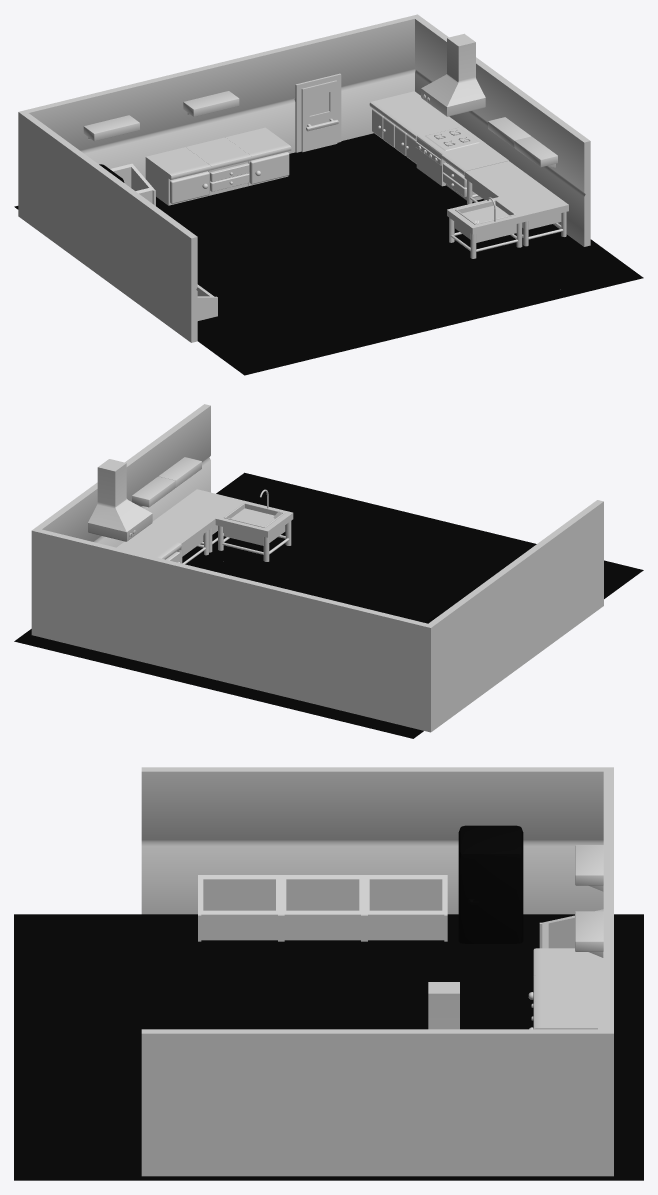
Rendered from Cocina Montada.fbx.
3 views of the same model, one above another, from view 1: azimuth 30°, elevation 25°; view 2: azimuth 150°, elevation 25°; view 3: azimuth 270°, elevation 25° (orthographic). The views are drawn at different scales.
Visible parts, largest first — view 1: Pared3 (×2), Pared006, Pared2, Pared005, Pared4, Pared009, Pared, Pared008, Puerta001, CAmpana001, Grifo.002, Marmol_CentroCajon005 (+15 smaller); view 2: Pared3 (×2), Pared, Pared2, Pared005, Pared006, Pared4, Pared009, CAmpana001, Grifo.002, Pared011, Mesa001, Mesa002 (+4 smaller); view 3: Pared008, Pared009, Pared011, Pared006, Pared005, Pared4, Nevera, Cajon002, Cajon003, Cajon004, Pared3 (×2), Marmol_CentroCajon007 (+102 smaller).
Part boxes in pixels (left/top/right/bottom): Pared3 (×2): left=218, top=14, right=420, bottom=153; Pared006: left=133, top=195, right=197, bottom=342; Pared2: left=118, top=63, right=221, bottom=178; Pared005: left=76, top=152, right=139, bottom=300; Pared4: left=19, top=111, right=82, bottom=258; Pared009: left=526, top=99, right=590, bottom=246; Pared: left=18, top=87, right=121, bottom=218; Pared008: left=469, top=57, right=532, bottom=173; Puerta001: left=294, top=73, right=341, bottom=152; CAmpana001: left=421, top=33, right=485, bottom=116; Grifo.002: left=447, top=197, right=524, bottom=258; Marmol_CentroCajon005: left=145, top=147, right=211, bottom=205; Pared3 (×2): left=31, top=528, right=234, bottom=683; Pared: left=331, top=601, right=434, bottom=731; Pared2: left=231, top=576, right=334, bottom=707; Pared005: left=482, top=542, right=546, bottom=689; Pared006: left=540, top=500, right=603, bottom=647; Pared4: left=424, top=584, right=488, bottom=732; Pared009: left=147, top=404, right=210, bottom=520; CAmpana001: left=88, top=459, right=152, bottom=541; Grifo.002: left=215, top=489, right=293, bottom=561; Pared011: left=31, top=488, right=95, bottom=635; Mesa001: left=139, top=511, right=211, bottom=564; Mesa002: left=167, top=489, right=240, bottom=552; Pared008: left=299, top=1029, right=456, bottom=1176; Pared009: left=141, top=1029, right=298, bottom=1176; Pared011: left=456, top=1029, right=613, bottom=1176; Pared006: left=141, top=767, right=298, bottom=914; Pared005: left=299, top=767, right=456, bottom=914; Pared4: left=456, top=767, right=613, bottom=914; Nevera: left=458, top=825, right=523, bottom=943; Cajon002: left=364, top=875, right=447, bottom=941; Cajon003: left=281, top=875, right=364, bottom=941; Cajon004: left=198, top=875, right=281, bottom=941; Pared3 (×2): left=603, top=900, right=613, bottom=1176; Marmol_CentroCajon007: left=531, top=975, right=603, bottom=1020.
Bounding box in the file's own units: 163 × 51.11 × 160.
